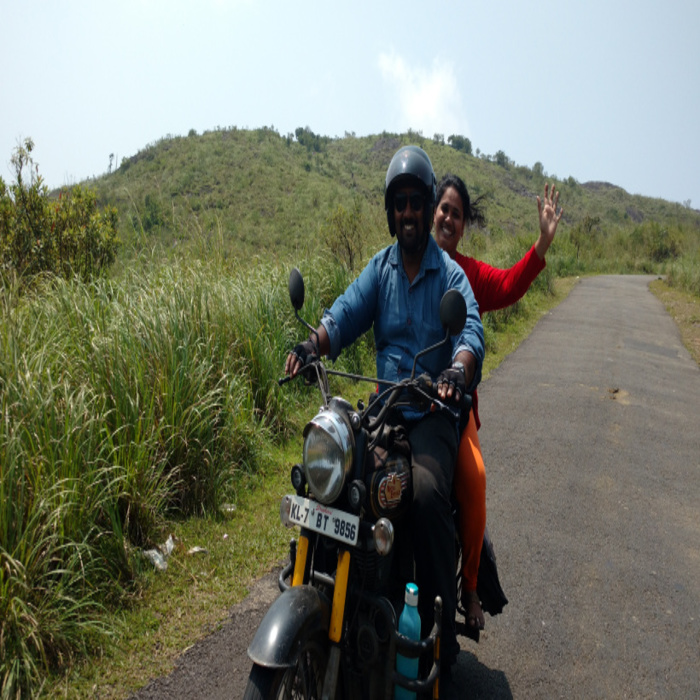h: (383, 143, 438, 210)
n: (289, 493, 361, 548)
